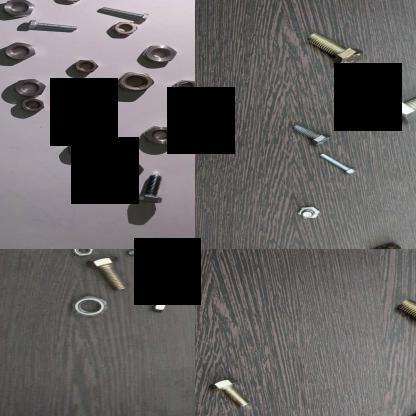Bolts: (302, 31, 366, 66), (202, 377, 255, 408), (375, 86, 416, 124), (88, 255, 128, 292), (315, 151, 362, 178), (94, 2, 152, 22), (133, 172, 167, 204), (391, 297, 416, 335), (290, 123, 332, 145), (20, 20, 84, 34), (146, 254, 174, 278), (396, 389, 416, 416), (294, 203, 326, 219), (369, 239, 416, 249), (121, 249, 169, 255)
NUTS: (106, 154, 146, 182), (66, 294, 112, 318), (116, 68, 158, 90), (141, 124, 181, 146), (141, 44, 181, 64), (1, 39, 37, 61), (0, 0, 37, 17), (108, 18, 139, 38), (12, 76, 46, 94), (16, 96, 50, 113), (68, 100, 96, 118), (74, 56, 100, 74), (147, 298, 175, 314), (172, 77, 195, 94), (66, 142, 93, 154), (185, 281, 195, 297)
